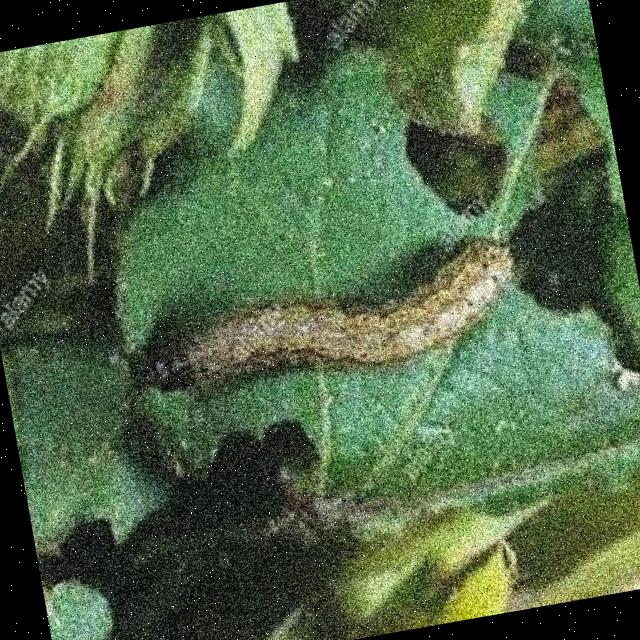worm: (123, 213, 539, 430)
